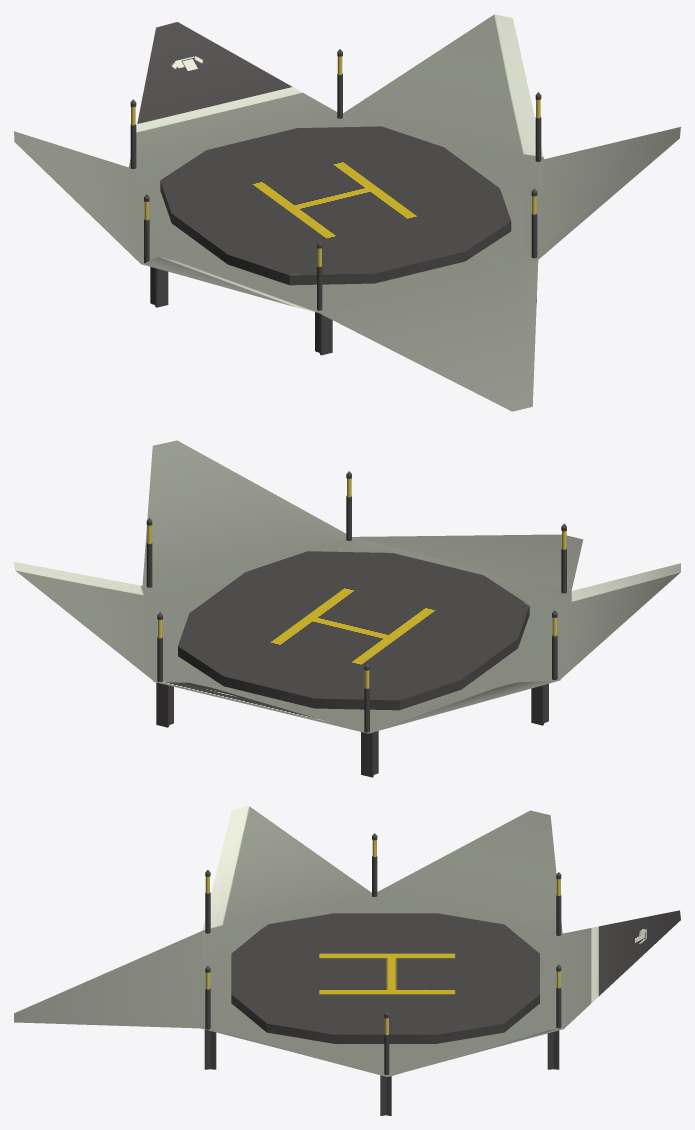
File: landingzone.fbx
3 renders of one model, top to bottom at view 1: azimuth 30°, elevation 25°; view 2: azimuth 150°, elevation 25°; view 3: azimuth 270°, elevation 25°, orthographic. The views are drawn at different scales.
Parts seen in each view (by area): view 1: polySurface26; view 2: polySurface26; view 3: polySurface26.
Part boxes in pixels (x1,y1,x2,y2): polySurface26: (14, 14, 680, 411); polySurface26: (14, 440, 680, 777); polySurface26: (14, 806, 680, 1115).
Size of the model in its own units: 21.19 by 4.48 by 25.45.
